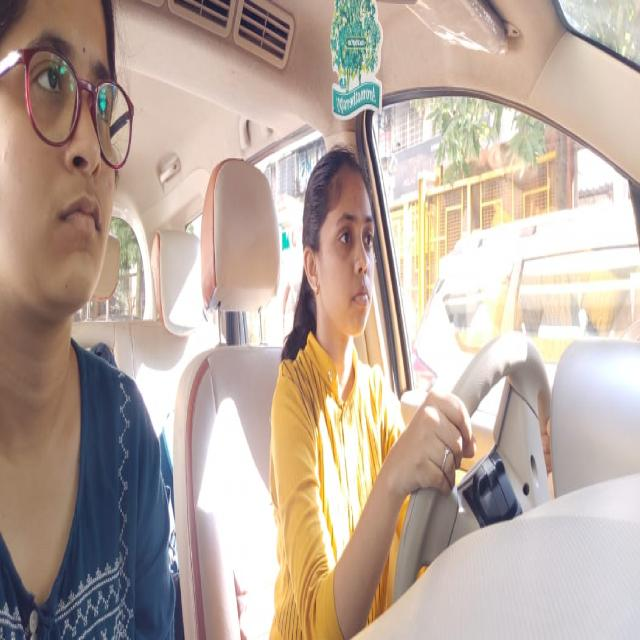person: (2, 3, 112, 313), (305, 162, 375, 334)
